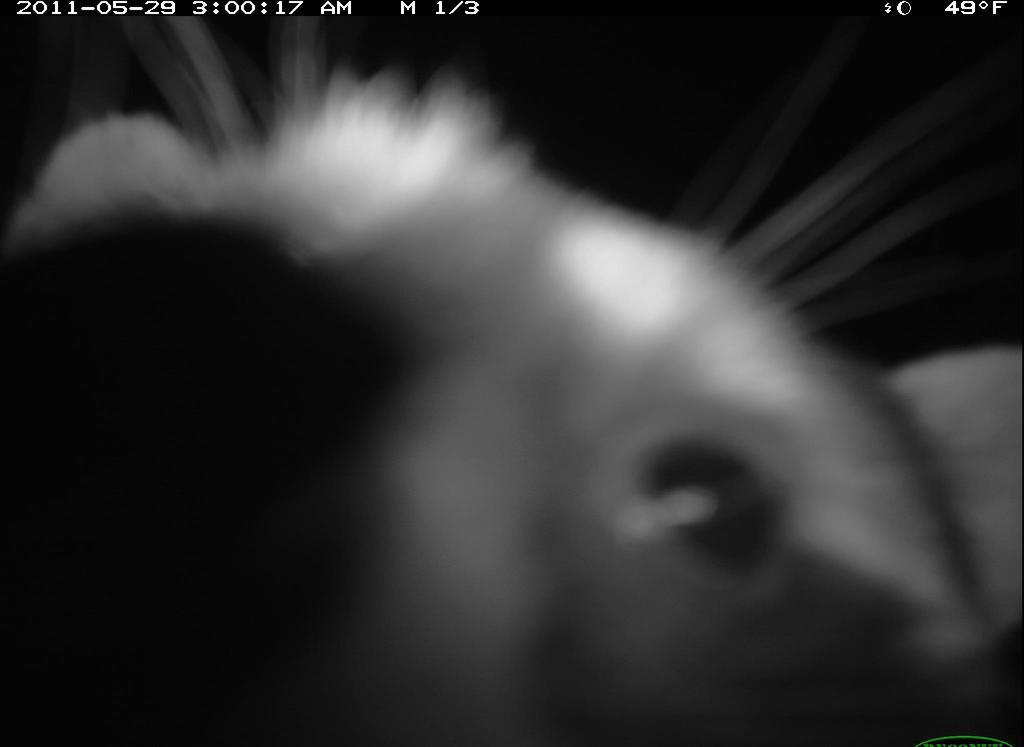raccoon: (9, 53, 1021, 743)
